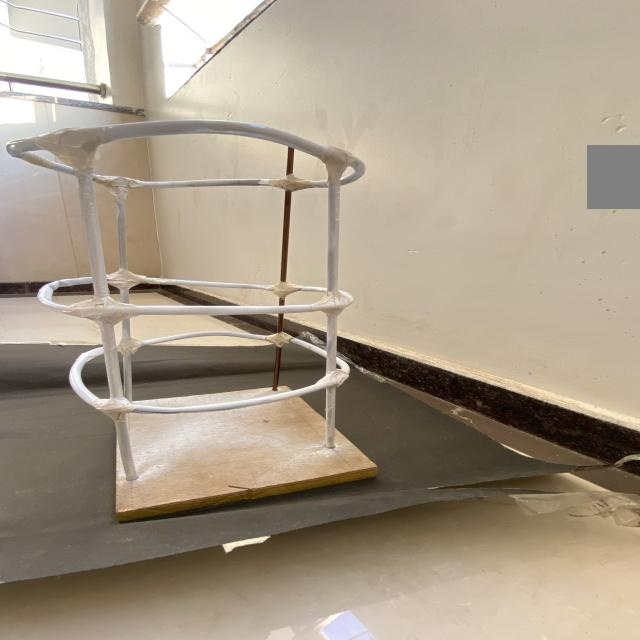silo: (0, 119, 374, 494)
